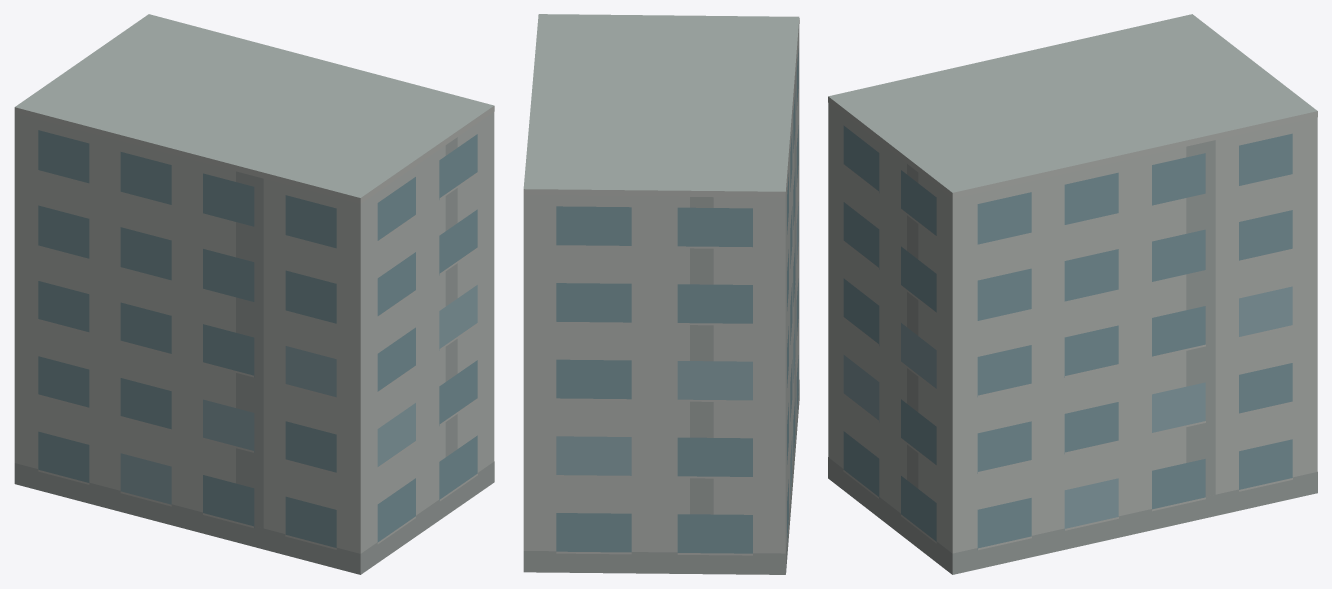
Rendered from survey-upis-32940791.glb.
3 views of the same model, side by side, from view 1: azimuth 30°, elevation 25°; view 2: azimuth 150°, elevation 25°; view 3: azimuth 270°, elevation 25° (orthographic).
Visible parts, largest first — view 1: survey-upis-32940791.tmp; view 2: survey-upis-32940791.tmp; view 3: survey-upis-32940791.tmp.
Boxes of the visible parts, x1,y1,x2,y2 form: survey-upis-32940791.tmp: (14, 14, 494, 574); survey-upis-32940791.tmp: (523, 14, 799, 574); survey-upis-32940791.tmp: (828, 14, 1317, 574).
Size of the model in its own units: 15.27 by 15.2 by 17.67.
